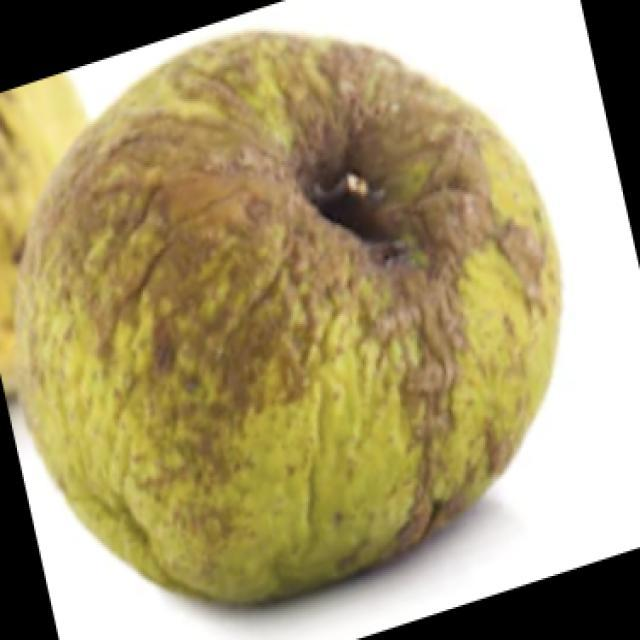Rotten: (47, 33, 545, 610)
